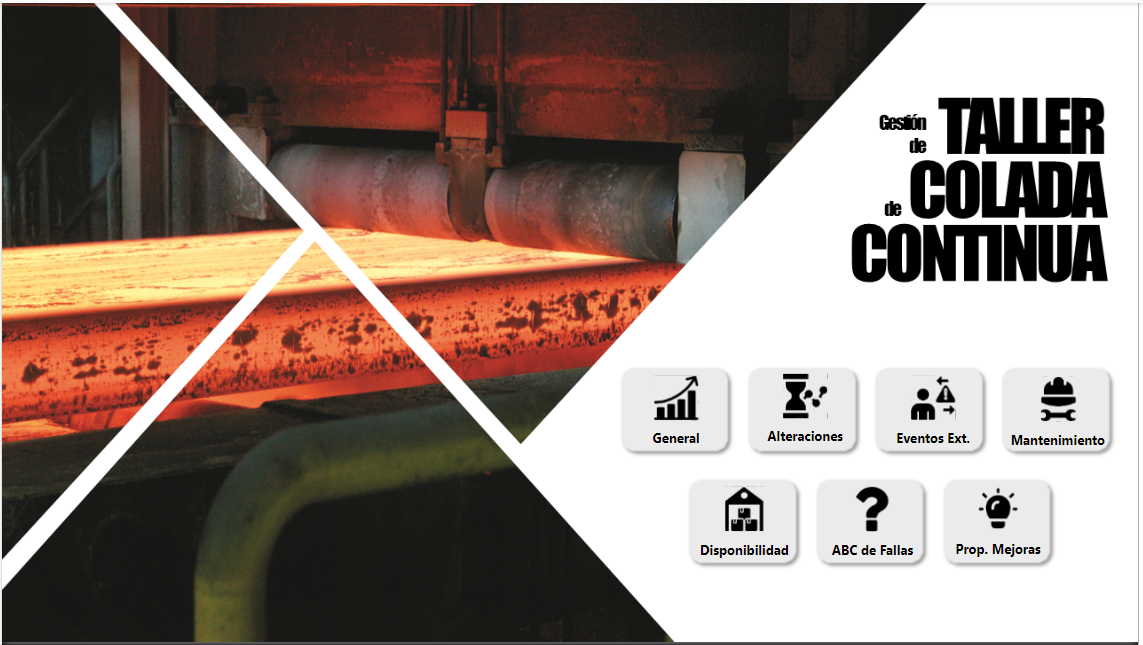

This screenshot's page, from the dashboard's own definition file:
{"tool":"powerbi","page":{"name":"Home","canvas":[1280,720],"ordinal":0},"visuals":[{"type":"actionButton","title":"General","box":[699.2,410.2,119.7,95],"z":0},{"type":"actionButton","title":"General","box":[920.3,535.4,120.4,95.6],"z":1000},{"type":"actionButton","title":"General","box":[844.9,408.4,119.7,95],"z":2000},{"type":"actionButton","title":"General","box":[989.4,409.8,119.7,95],"z":3000},{"type":"actionButton","title":"General","box":[1129.7,411.1,119.1,95.6],"z":4000},{"type":"actionButton","title":"General","box":[776.3,535.4,120.4,95.6],"z":5000},{"type":"actionButton","title":"General","box":[1062.5,535.4,119.7,95],"z":7000}]}

Visuals, with their boxes in screenshot pixels (x1, y1, x2, y2), scaled from the page's 1280x720 canvas onto the 1143x645 screenshot:
"General" actionButton: crop(624, 367, 731, 453)
"General" actionButton: crop(822, 480, 929, 565)
"General" actionButton: crop(754, 366, 861, 451)
"General" actionButton: crop(884, 367, 990, 452)
"General" actionButton: crop(1009, 368, 1115, 454)
"General" actionButton: crop(693, 480, 801, 565)
"General" actionButton: crop(949, 480, 1056, 565)
